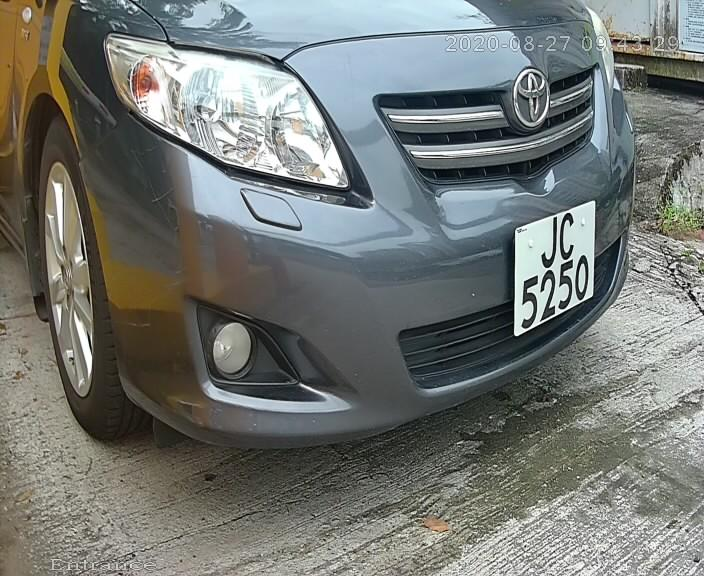Car: (7, 13, 689, 453)
License Plate: (507, 188, 601, 340)
